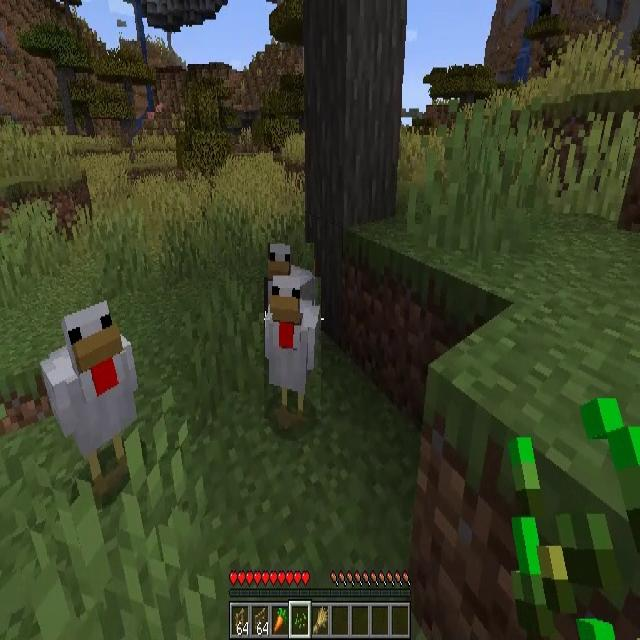duck: (40, 301, 138, 482), (264, 277, 321, 419), (268, 243, 314, 313)
